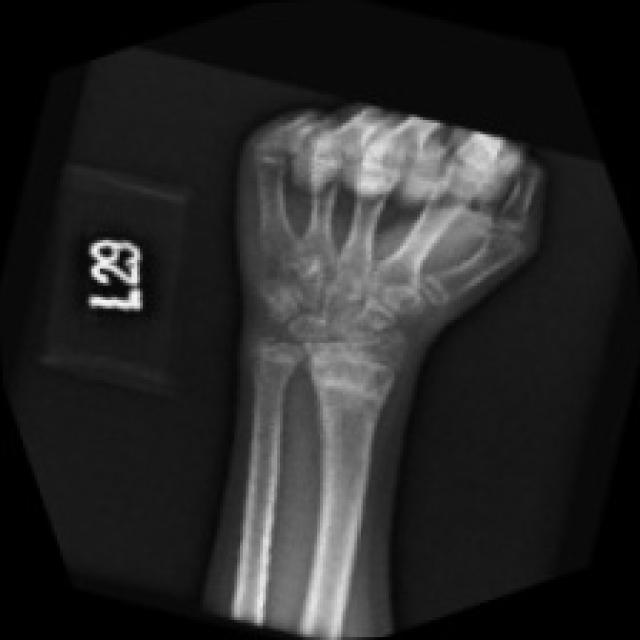fracture: (233, 277, 310, 376)
